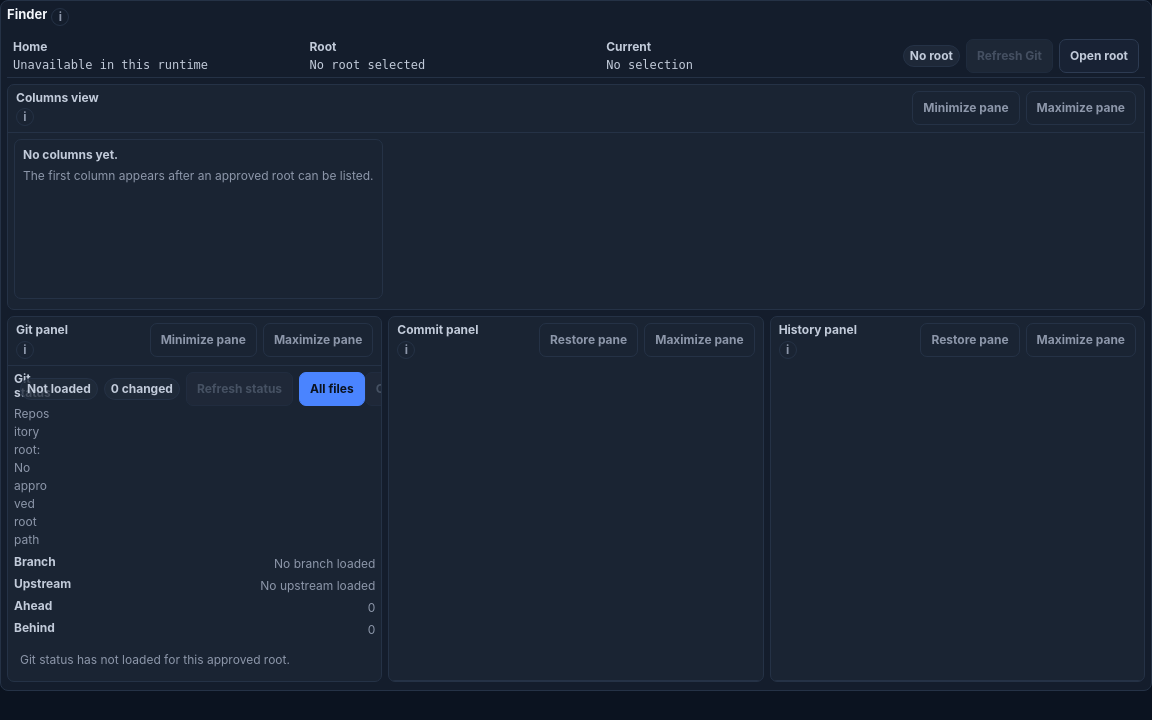
FinderWidget › shows an honest unsupported listing state when only the native directory label picker is available
Click the button "Open root": (1099, 56) left=1059, top=39, right=1139, bottom=73
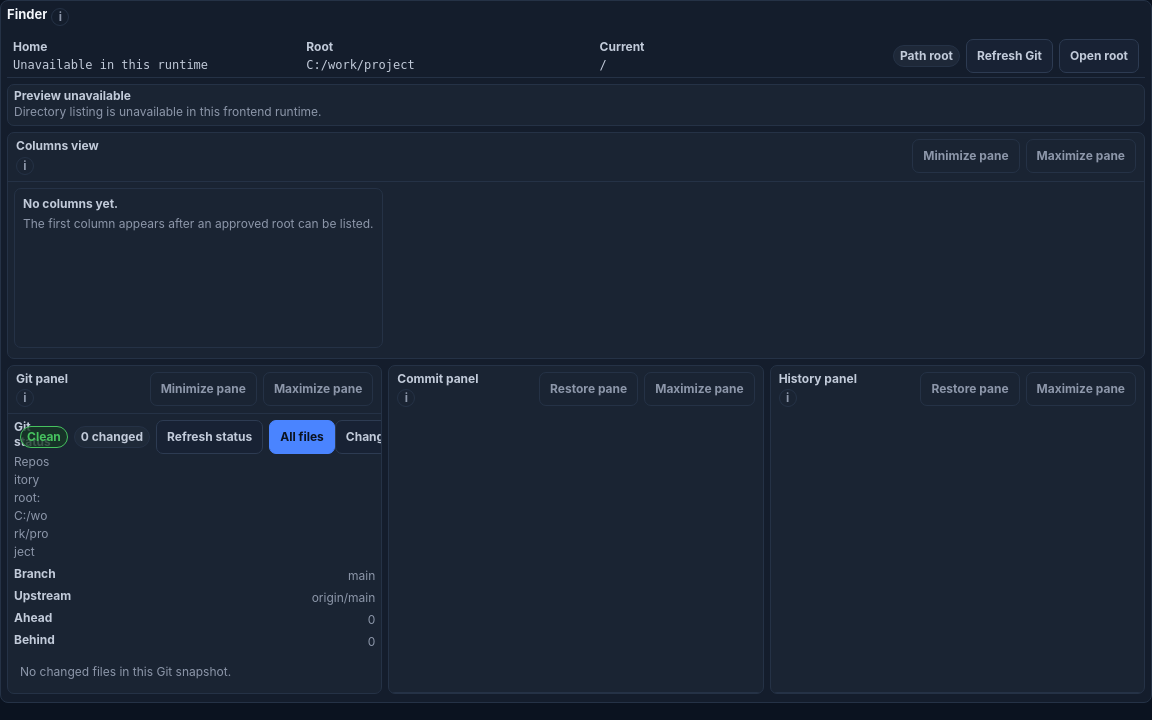
Result: the text "C:/work/project" is shown at left=306, top=58, right=415, bottom=72
Result: the text "Directory listing is unavailable in this frontend runtime." is shown at left=14, top=104, right=322, bottom=119
Result: the text "Clean" is shown at left=20, top=426, right=68, bottom=448
